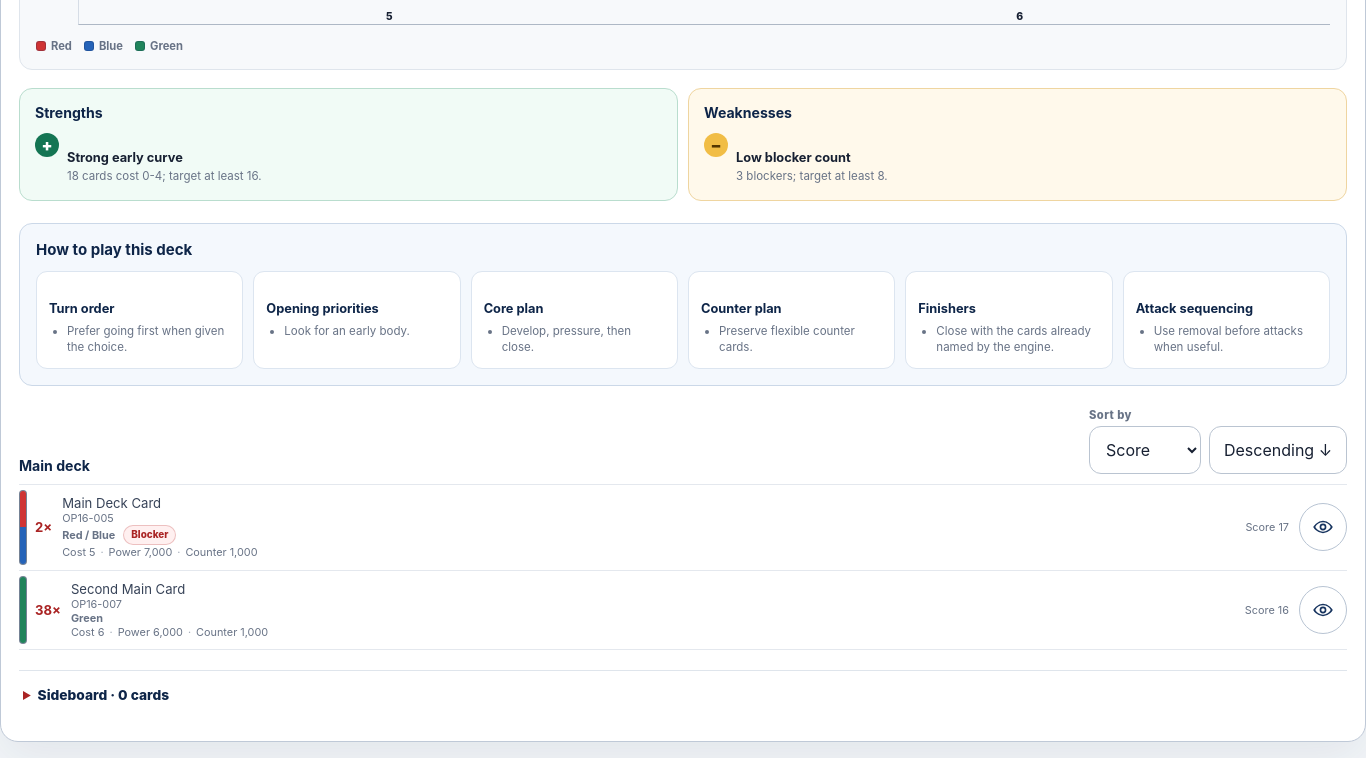
Scenario: DeckResult › keeps an empty Sideboard closed and reveals None when opened
(page scrolled)
Check: the text "None" is not shown
What coordinates should you click on to do the following:
click the heading "Sideboard · 0 cards"
I would click on:
 (103, 695)
Its box is [38,687,169,703].
(page scrolled)
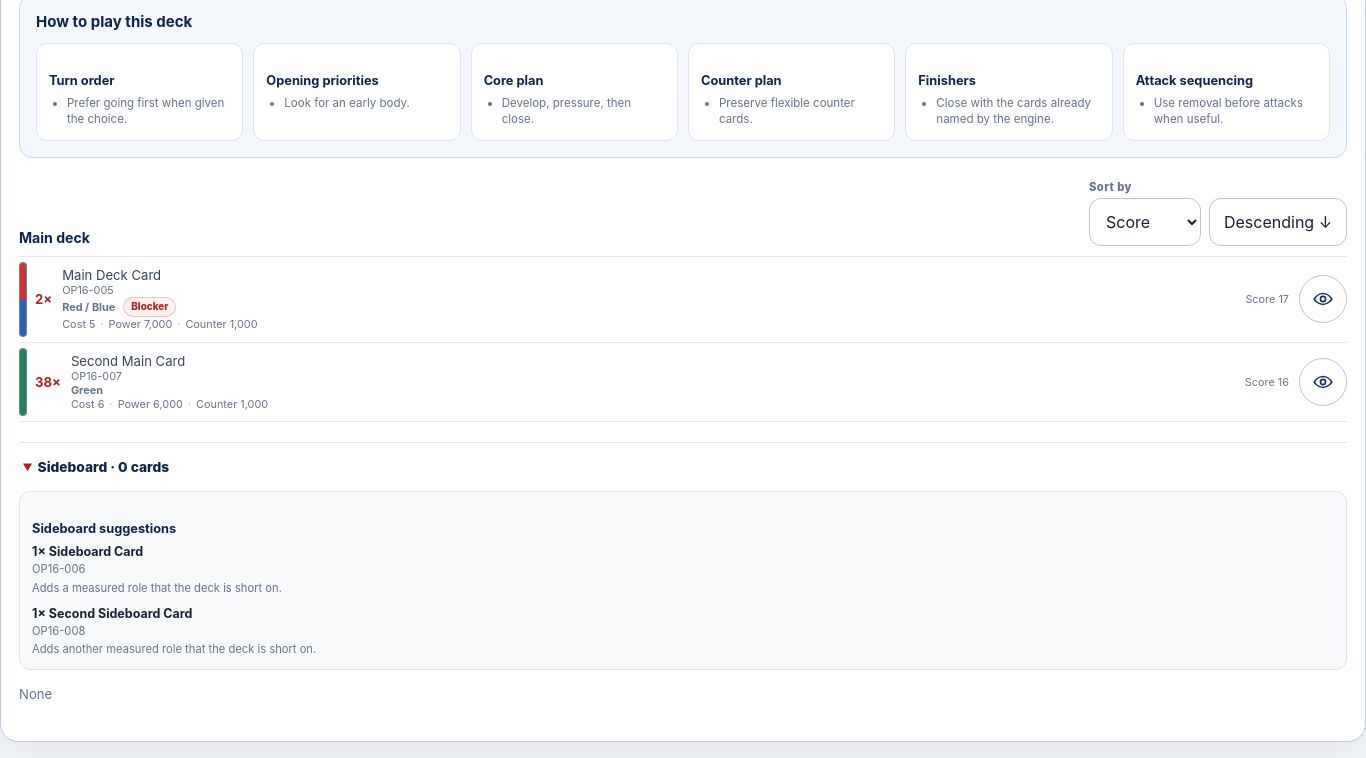
Check: the text "None" is shown, box [19,686,52,702]
